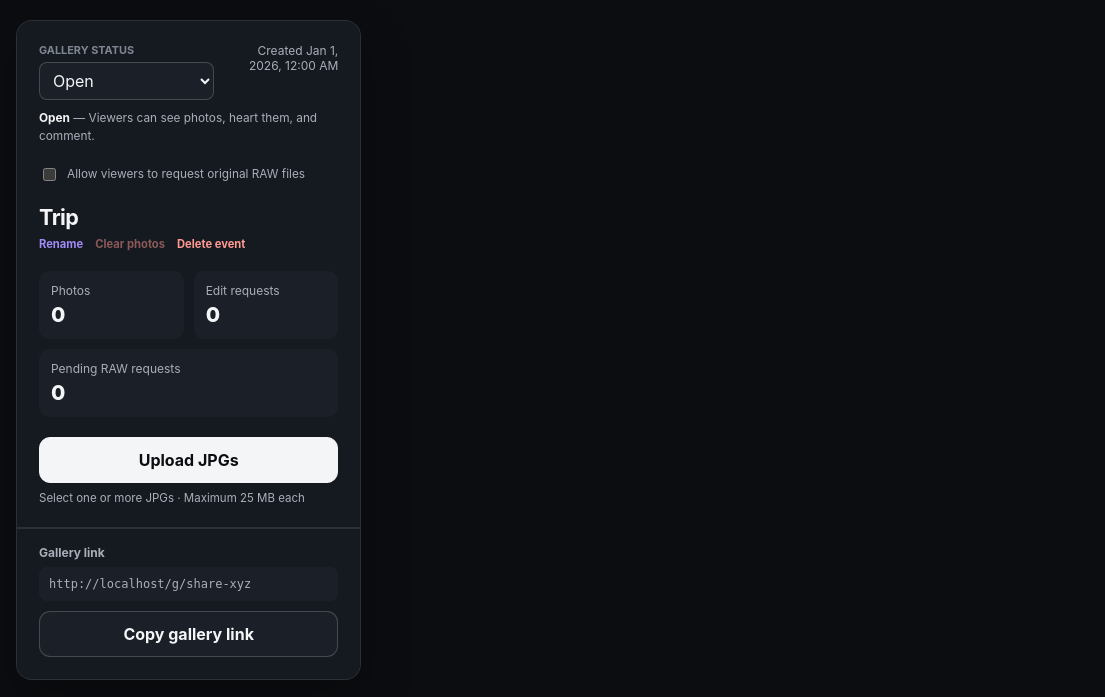
Test: DashboardPage › clears the pending copied-indicator timeout on unmount
(page scrolled)
What coordinates should you click on to do the following:
click the button "Copy gallery link"
I would click on:
 (189, 634)
Its box is x1=39 y1=611 x2=338 y2=657.
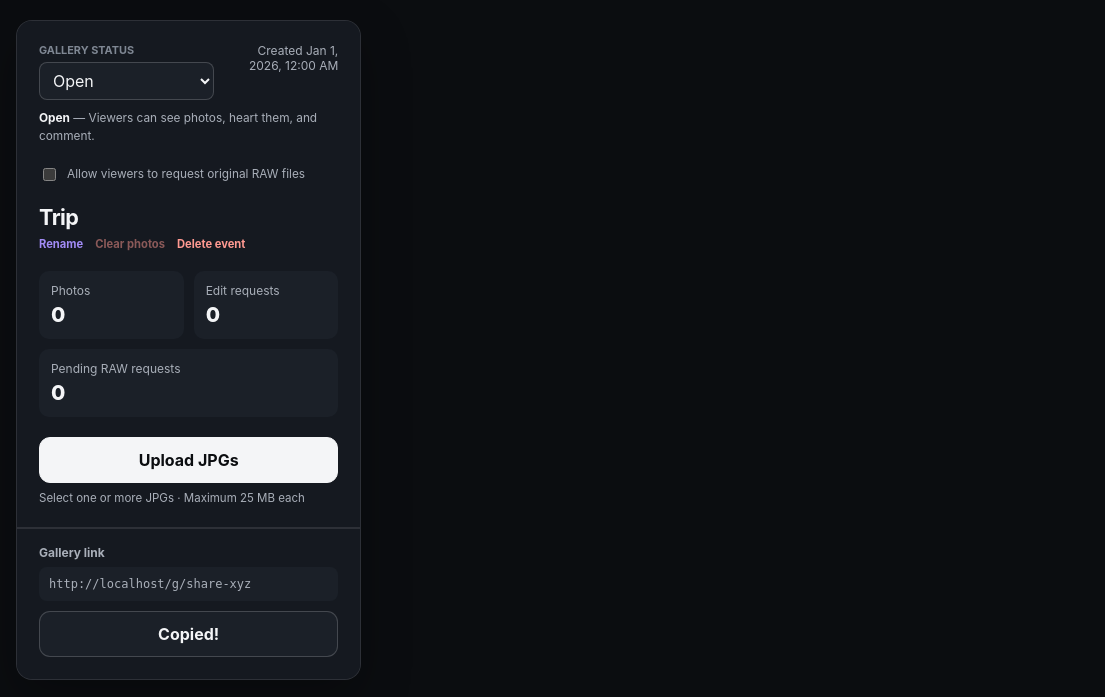
Now the button "Copied!" is shown, box x1=39 y1=611 x2=338 y2=657
